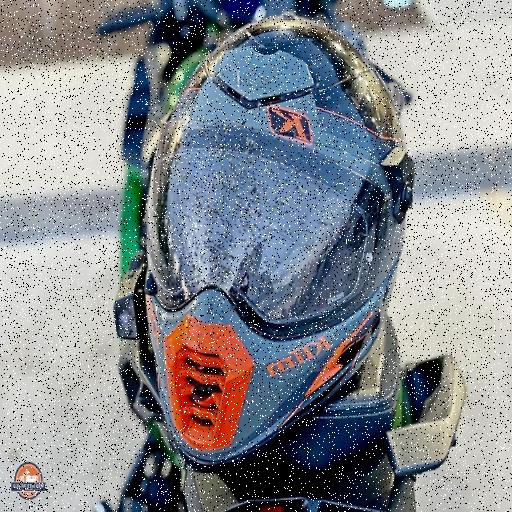Helmet: (147, 16, 413, 466)
